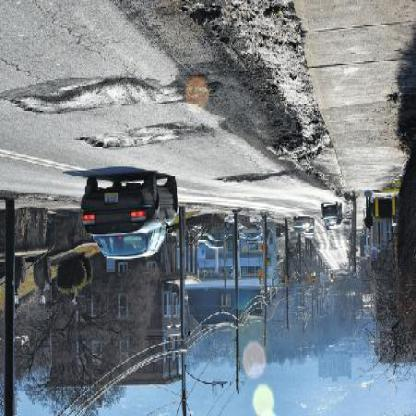pothole: (4, 79, 159, 119), (77, 123, 184, 152), (215, 175, 274, 186)
